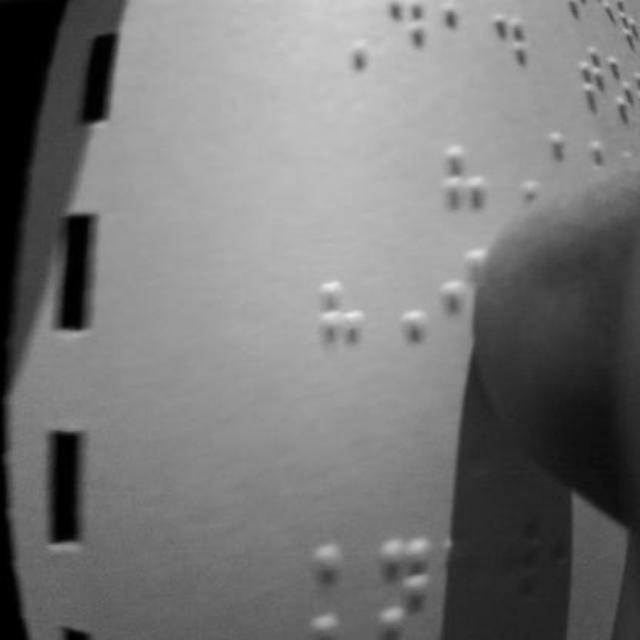braiile: (376, 534, 436, 640), (313, 534, 369, 640), (440, 141, 496, 245), (316, 270, 370, 374)
